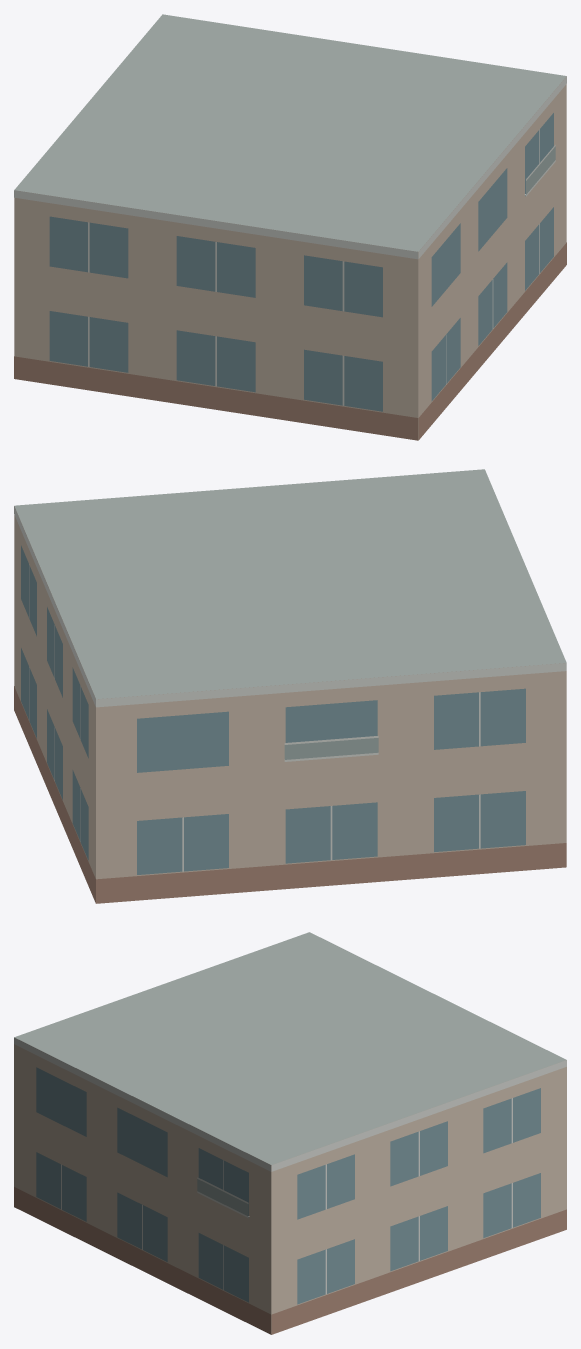
File: survey-upis-32715263.glb
The picture shows the model from 3 angles, top to bottom: view 1: azimuth 30°, elevation 25°; view 2: azimuth 150°, elevation 25°; view 3: azimuth 270°, elevation 25°; orthographic projection. The views are drawn at different scales.
Parts seen in each view (by area): view 1: survey-upis-32715263.tmp; view 2: survey-upis-32715263.tmp; view 3: survey-upis-32715263.tmp.
Boxes of the visible parts, box(x1,y1,x2,y2) form: survey-upis-32715263.tmp: box(14, 14, 566, 440); survey-upis-32715263.tmp: box(14, 469, 566, 903); survey-upis-32715263.tmp: box(14, 932, 566, 1334).
Size of the model in its own units: 17.98 by 6.1 by 18.01.
